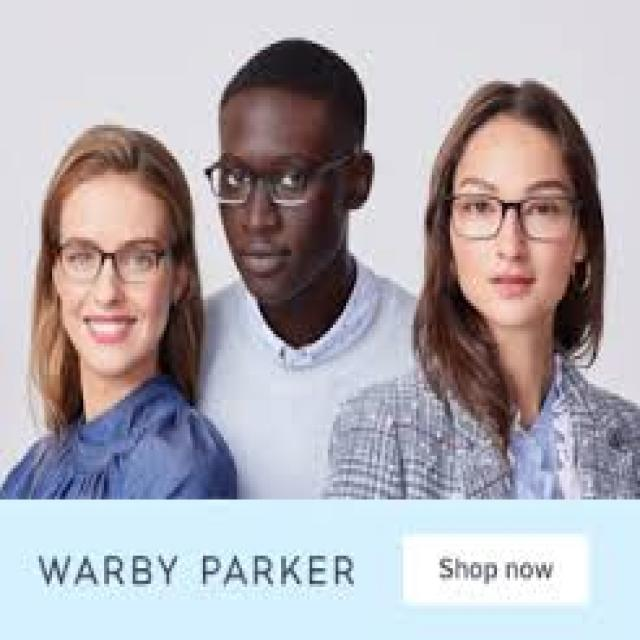Glasses: (200, 150, 354, 212), (445, 187, 585, 247), (54, 234, 180, 287)
